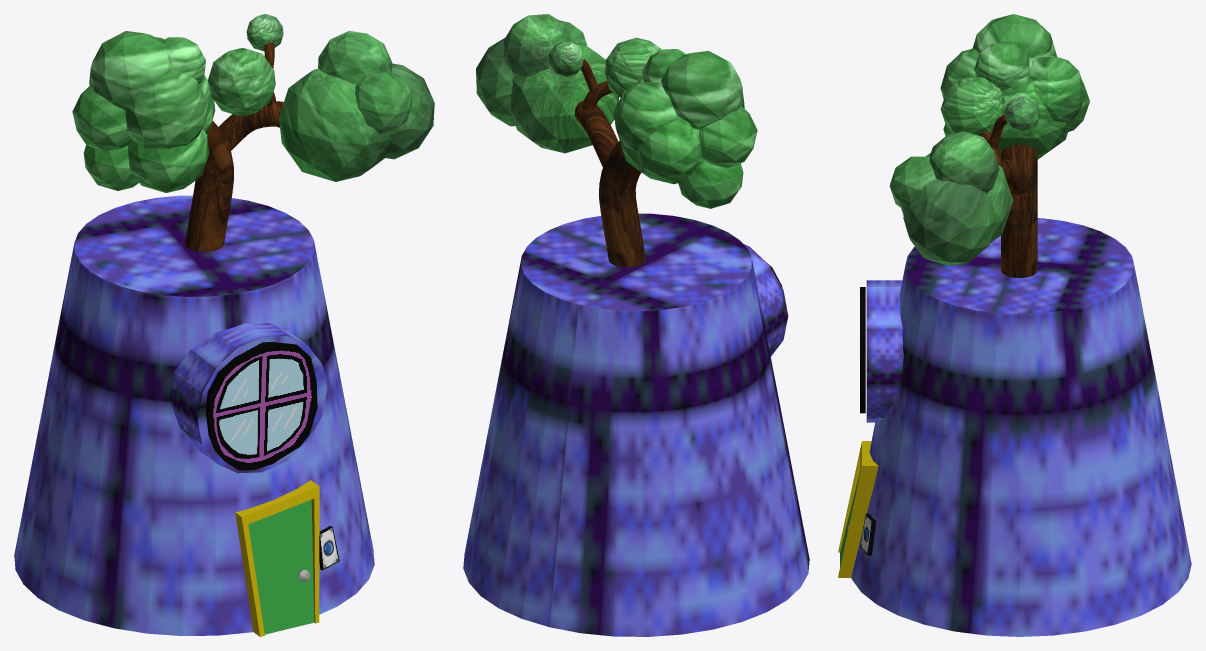
File: House2.fbx
The picture shows the model from 3 angles, left to right: view 1: azimuth 30°, elevation 25°; view 2: azimuth 150°, elevation 25°; view 3: azimuth 270°, elevation 25°; orthographic projection. The views are drawn at different scales.
Visible parts, largest first — view 1: House 2, Tree, Door, Plane.011; view 2: House 2, Tree; view 3: House 2, Tree, Door.
Boxes of the visible parts, left/top/right/bottom form: House 2: left=14, top=195, right=374, bottom=635; Tree: left=72, top=14, right=434, bottom=251; Door: left=235, top=480, right=319, bottom=636; Plane.011: left=319, top=526, right=339, bottom=570; House 2: left=463, top=213, right=809, bottom=636; Tree: left=476, top=14, right=757, bottom=267; House 2: left=851, top=218, right=1191, bottom=636; Tree: left=889, top=14, right=1089, bottom=277; Door: left=838, top=441, right=878, bottom=577.
Size of the model in its own units: 43.12 by 62.98 by 39.09.
